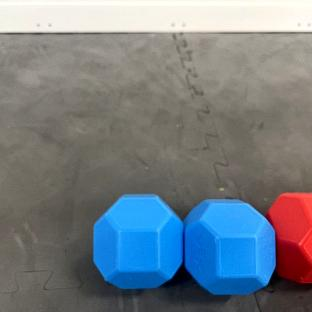V5_BLUE: (185, 199, 275, 294), (94, 194, 181, 288)
V5_RED: (269, 192, 312, 283)
pieces: (91, 191, 276, 295)
